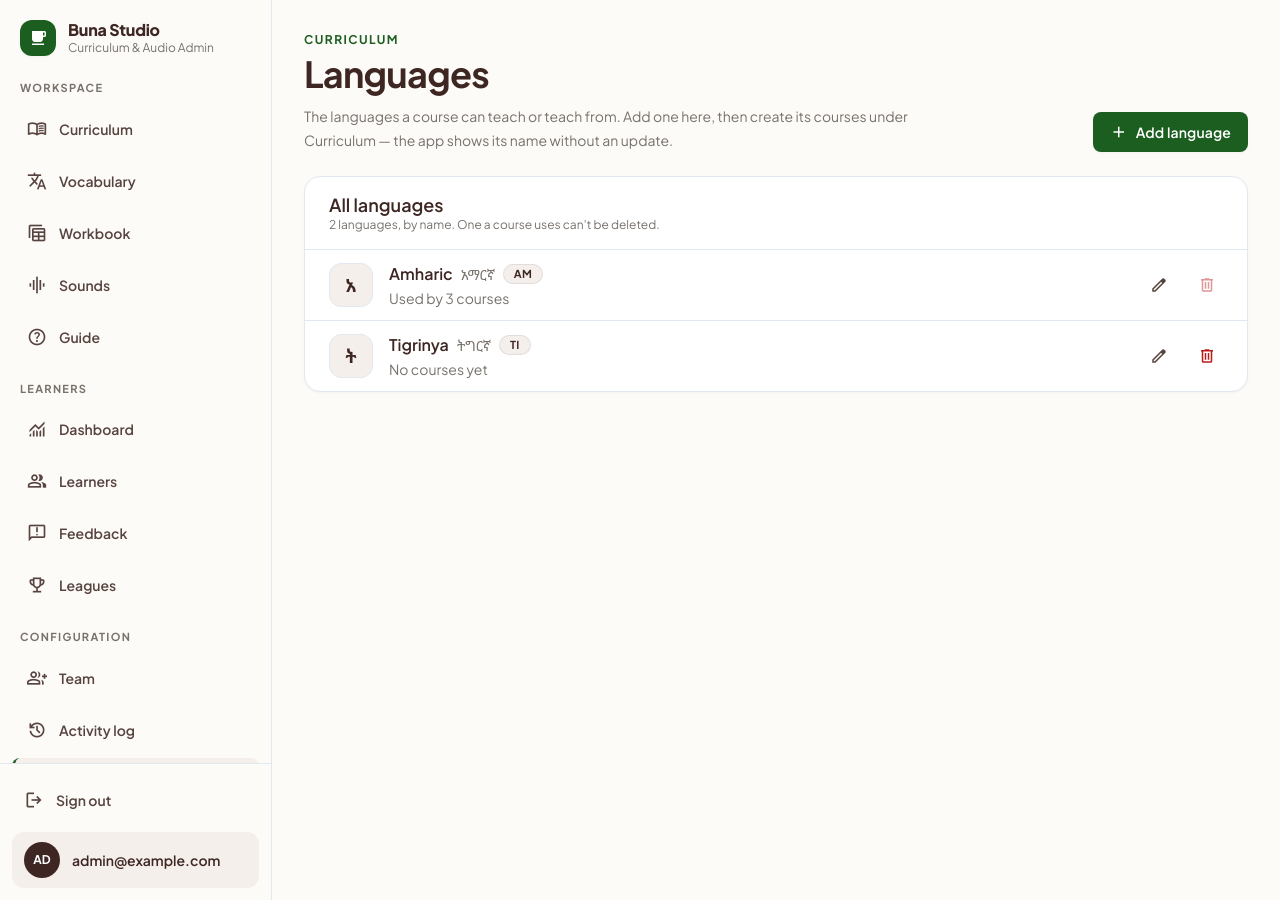
Scenario: the languages page › deletes an unused language after asking
This screenshot has width=1280, height=900.
Step 1. Click the button named "Delete Tigrinya" → (1207, 356), box x1=1191 y1=340 x2=1223 y2=372
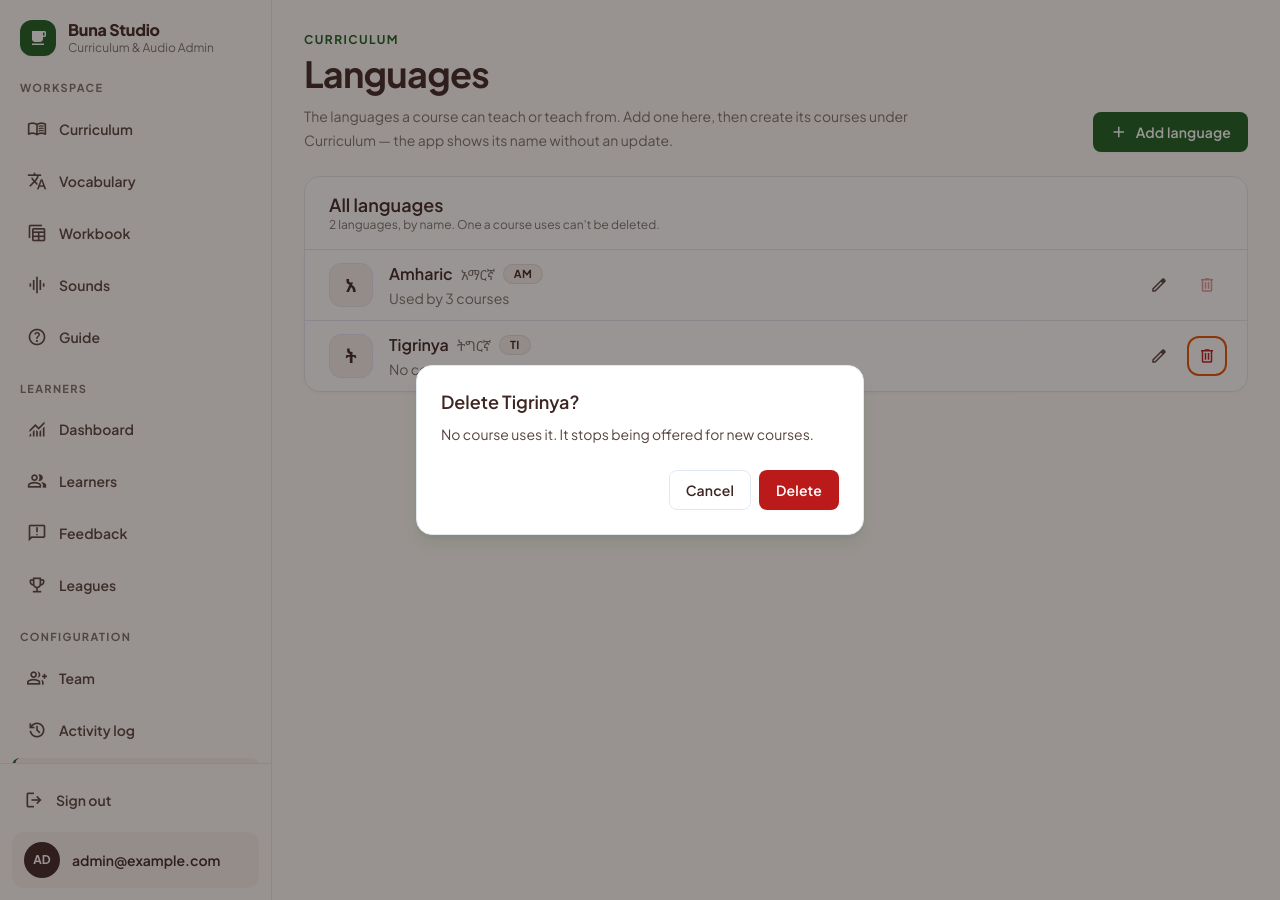
Step 2. Click the button "Delete" → (799, 490), box x1=759 y1=470 x2=839 y2=510
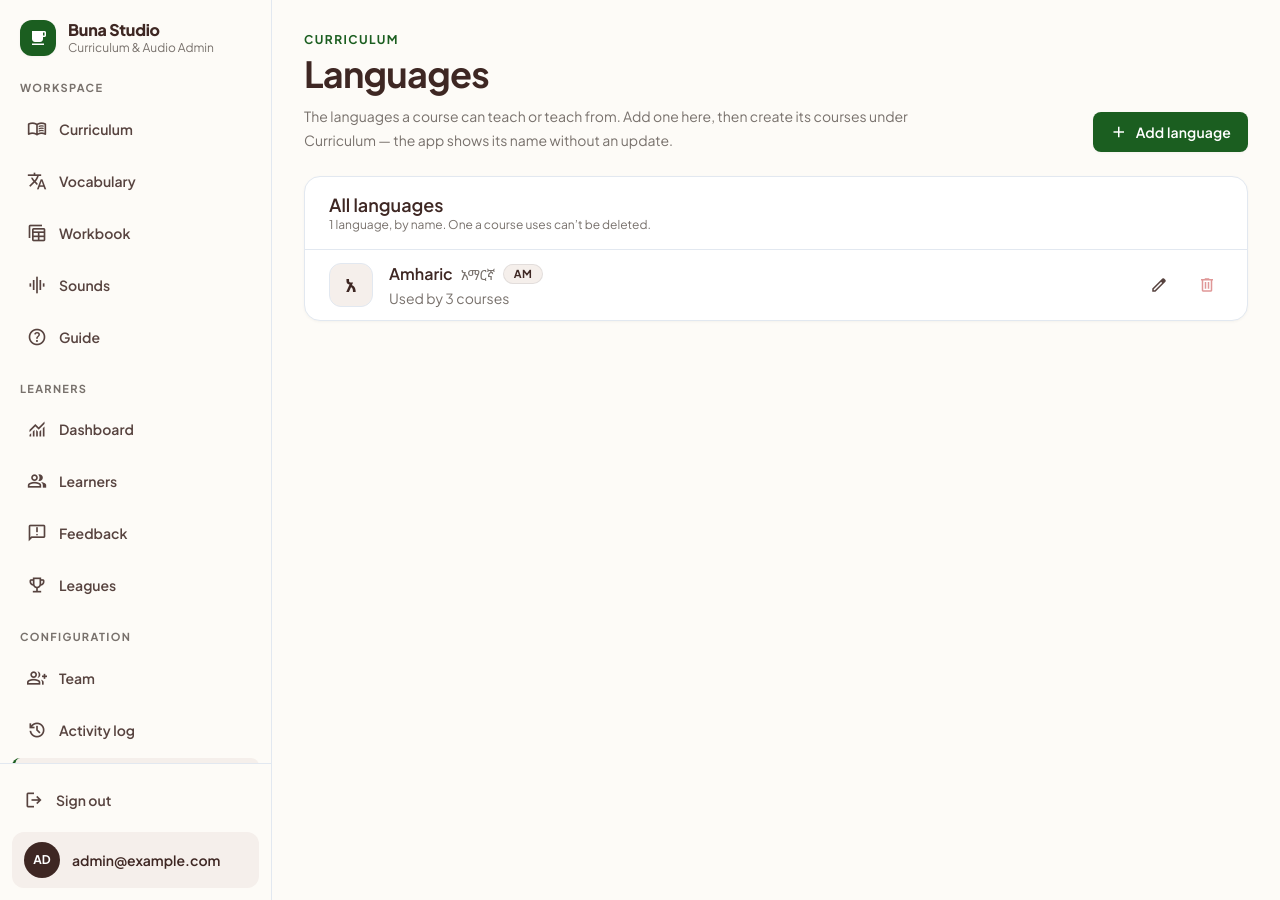
Expected: the text "Tigrinya" is gone
